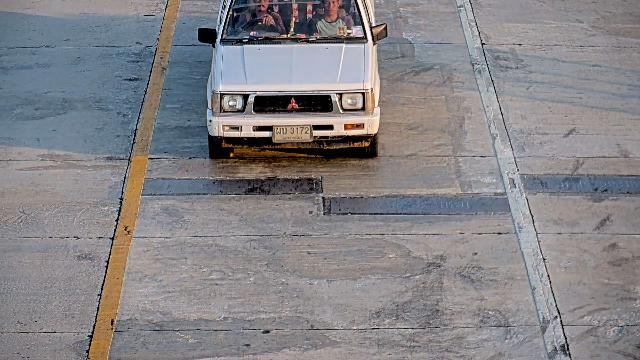pickup-truck: (197, 0, 388, 159)
